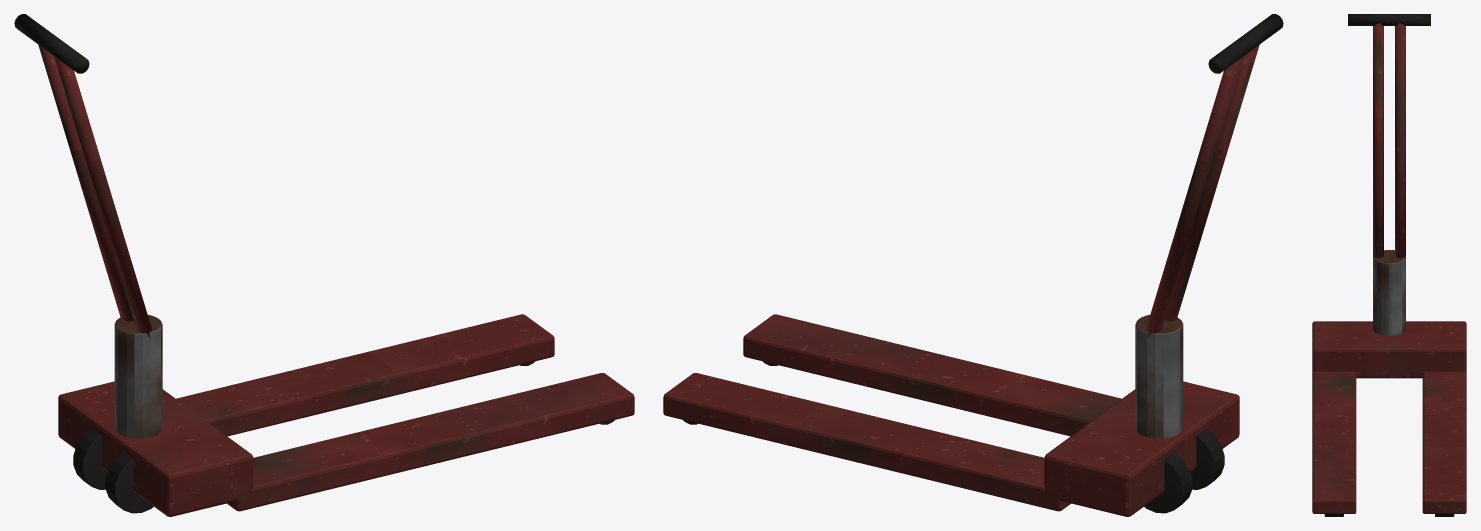
The model's file is F41_hand_pallet_jack.glb.
The picture shows the model from 3 angles, left to right: view 1: azimuth 30°, elevation 25°; view 2: azimuth 150°, elevation 25°; view 3: azimuth 270°, elevation 25°; orthographic projection. The views are drawn at different scales.
Parts seen in each view (by area): view 1: F41_hand_pallet_jack; view 2: F41_hand_pallet_jack; view 3: F41_hand_pallet_jack.
Part boxes in pixels (x1,y1,x2,y2): F41_hand_pallet_jack: [14, 14, 634, 516]; F41_hand_pallet_jack: [663, 14, 1283, 516]; F41_hand_pallet_jack: [1312, 14, 1466, 516].
Bounding box in the file's own units: 1.5 × 1.28 × 0.543.
Materials: 3 (3 with a texture image).
